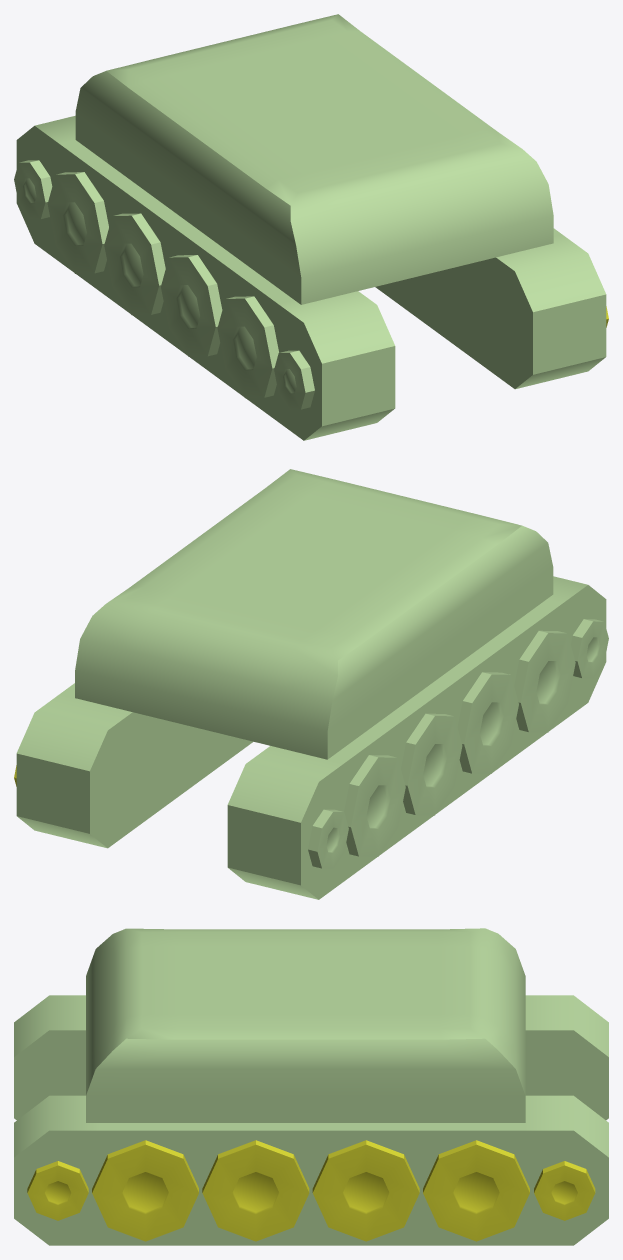
The model's file is TankBottom.fbx.
3 views of the same model, one above another, from view 1: azimuth 30°, elevation 25°; view 2: azimuth 150°, elevation 25°; view 3: azimuth 270°, elevation 25° (orthographic). The views are drawn at different scales.
Parts seen in each view (by area): view 1: pCube1, pCylinder18, pCube11; view 2: pCube1, pCylinder18, pCube11; view 3: pCube1, pCube11, pCylinder18, pCylinder7, pCylinder8, pCylinder5, pCylinder9, pCylinder10, pCylinder11.
Boxes of the visible parts, x1,y1,x2,y2 form: pCube1: (75,14,553,304); pCylinder18: (14,115,395,440); pCube11: (375,228,606,389); pCube1: (75,469,553,759); pCylinder18: (227,576,608,899); pCube11: (16,683,253,848); pCube1: (86,928,525,1122); pCube11: (14,1095,608,1245); pCylinder18: (14,995,608,1120); pCylinder7: (312,1140,419,1241); pCylinder8: (202,1140,309,1241); pCylinder5: (92,1140,198,1241); pCylinder9: (423,1140,529,1241); pCylinder10: (27,1161,88,1220); pCylinder11: (534,1161,595,1220).
Bounding box in the file's own units: 1.86 × 1.19 × 3.24.
